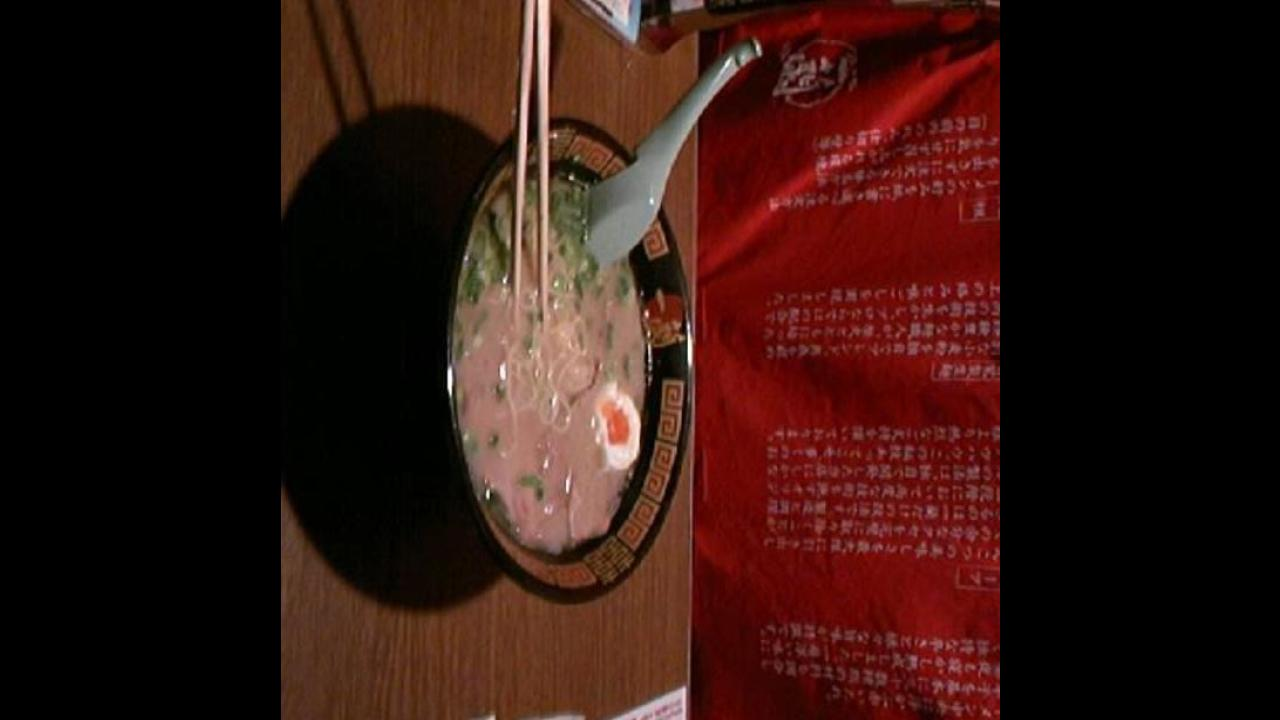chopstick: (512, 0, 550, 324)
